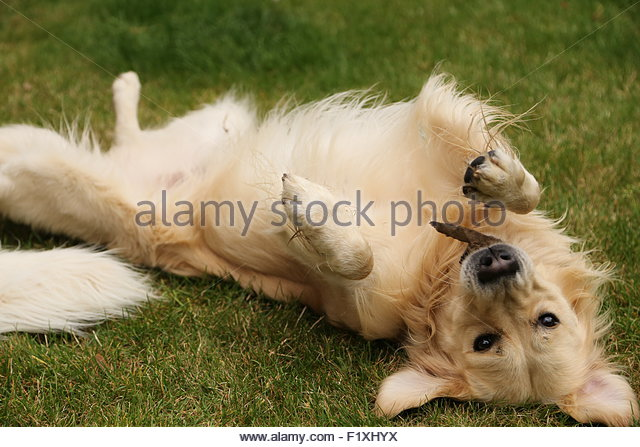dog: (1, 65, 636, 417)
